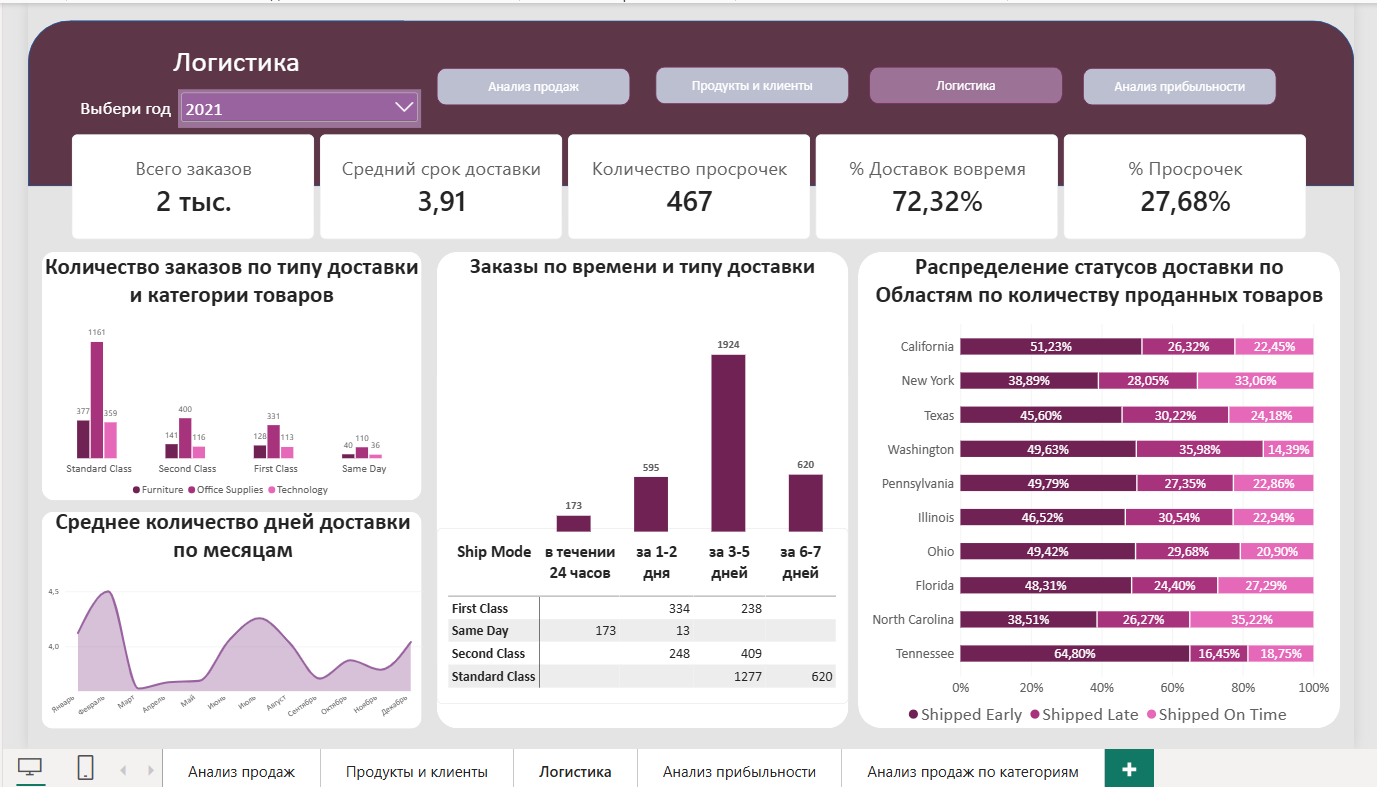

The dashboard page shown, as its layout file describes it:
{"tool":"powerbi","page":{"name":"Логистика","canvas":[1920,1080],"ordinal":2},"visuals":[{"type":"shape","box":[20,736,550,314],"z":0},{"type":"shape","box":[592,360,596,690],"z":1000},{"type":"shape","box":[20,360,550,360],"z":2000},{"type":"shape","box":[1202,360,698,690],"z":3000},{"type":"shape","box":[0,26,1920,240],"z":4000},{"type":"textbox","box":[64,58,478,66],"z":5000},{"type":"textbox","box":[66,134.9,152.6,55.1],"z":6000},{"type":"cardVisual","fields":{"Data":["Меры.Всего заказов","Меры.Средний срок доставки","Меры.Количество просрочек","Меры.% Доставок вовремя","Меры.% Просрочек"]},"box":[64,190,1790,152],"z":7000},{"type":"shape","title":"Анализ продаж","box":[592,94,280,54],"z":8000},{"type":"shape","title":"Анализ продаж","box":[908.6,93.1,280,54],"z":9000},{"type":"shape","title":"Анализ продаж","box":[1528,94,280,54],"z":10000},{"type":"shape","title":"Анализ продаж","box":[1217.7,93.1,280,54],"z":11000},{"type":"hundredPercentStackedBarChart","title":"Распределение статусов доставки по Областям по количеству проданных товаров","fields":{"Category":["Sample - Superstore_Orders.State"],"Series":["Sample - Superstore_Orders.Ship Status"],"Y":["Sum(Sample - Superstore_Orders.Quantity)"]},"box":[1218,360,666,690],"z":12000},{"type":"slicer","fields":{"Values":["Sample - Superstore_Orders.Year"]},"box":[218,124,352,56],"z":13000},{"type":"pivotTable","fields":{"Columns":["Sample - Superstore_Orders.Время доставки (группы)"],"Rows":["Sample - Superstore_Orders.Ship Mode"],"Values":["CountNonNull(Sample - Superstore_Orders.Order ID)"]},"box":[592,760,596,254],"z":14000},{"type":"clusteredColumnChart","title":"Время доставки","fields":{"Category":["Sample - Superstore_Orders.Время доставки (группы)"],"Y":["CountNonNull(Sample - Superstore_Orders.Order ID)"]},"box":[766,472,392,294],"z":15000},{"type":"clusteredColumnChart","title":"Количество заказов по типу доставки и категории товаров","fields":{"Category":["Sample - Superstore_Orders.Ship Mode"],"Series":["Sample - Superstore_Orders.Category"],"Y":["CountNonNull(Sample - Superstore_Orders.Order ID)"]},"box":[20,360,550,360],"z":16000},{"type":"areaChart","title":"Среднее количество дней доставки по месяцам","fields":{"Category":["Sample - Superstore_Orders.Ship Date.Изменение.Иерархия дат.Месяц"],"Y":["Avg(Sample - Superstore_Orders.Days to Ship Actual)"]},"box":[22,730,550,320],"z":17000},{"type":"textbox","box":[592,360,596,82],"z":18000}]}

Visuals, with their boxes on the page's 1920x1080 design canvas (x1, y1, x2, y2). These are canvas units, not pixel positions in the 1377x787 screenshot, which may show the page scaled, cropped or inside an application window:
shape: detection(20, 736, 570, 1050)
shape: detection(592, 360, 1188, 1050)
shape: detection(20, 360, 570, 720)
shape: detection(1202, 360, 1900, 1050)
shape: detection(0, 26, 1920, 266)
textbox: detection(64, 58, 542, 124)
textbox: detection(66, 135, 219, 190)
cardVisual - Меры.Всего заказов x Меры.Средний срок доставки: detection(64, 190, 1854, 342)
"Анализ продаж" shape: detection(592, 94, 872, 148)
"Анализ продаж" shape: detection(909, 93, 1189, 147)
"Анализ продаж" shape: detection(1528, 94, 1808, 148)
"Анализ продаж" shape: detection(1218, 93, 1498, 147)
"Распределение статусов доставки по Областям по количеству проданных товаров" hundredPercentStackedBarChart: detection(1218, 360, 1884, 1050)
slicer - Sample - Superstore_Orders.Year: detection(218, 124, 570, 180)
pivotTable - Sample - Superstore_Orders.Время доставки (группы) x Sample - Superstore_Orders.Ship Mode: detection(592, 760, 1188, 1014)
"Время доставки" clusteredColumnChart: detection(766, 472, 1158, 766)
"Количество заказов по типу доставки и категории товаров" clusteredColumnChart: detection(20, 360, 570, 720)
"Среднее количество дней доставки по месяцам" areaChart: detection(22, 730, 572, 1050)
textbox: detection(592, 360, 1188, 442)
